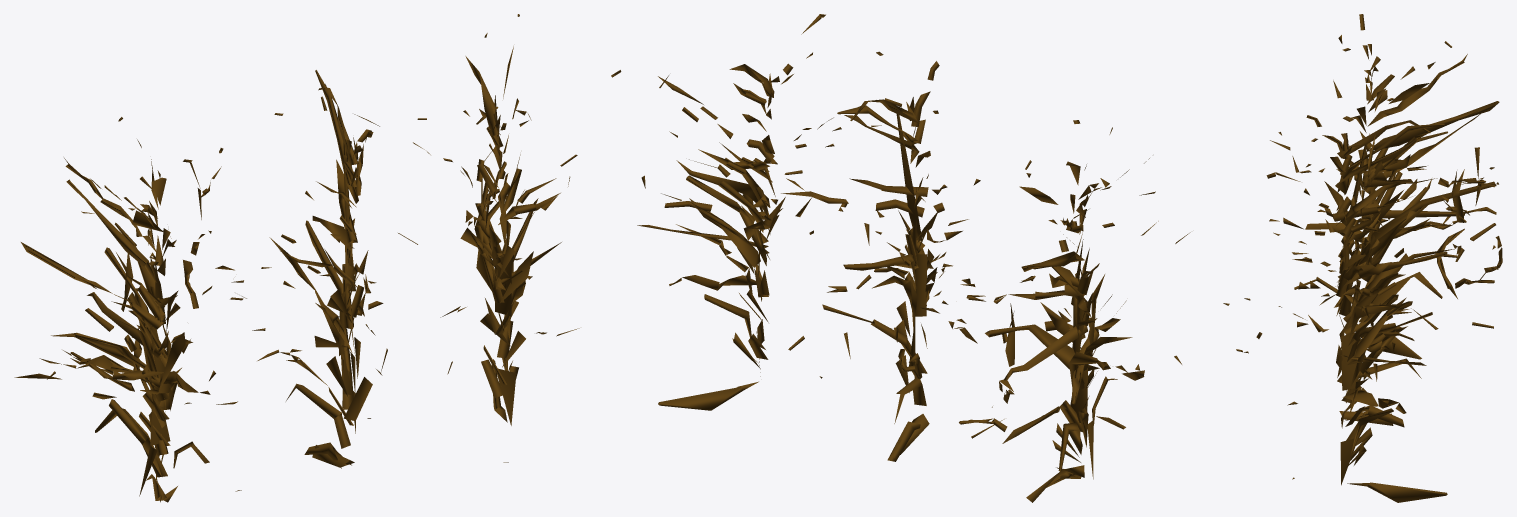
File: hedgeCore.glb
3 renders of one model, left to right at view 1: azimuth 30°, elevation 25°; view 2: azimuth 150°, elevation 25°; view 3: azimuth 270°, elevation 25°, orthographic. The views are drawn at different scales.
Visible parts, largest first — view 1: BarkPoplar.001; view 2: BarkPoplar.001; view 3: BarkPoplar.001.
Part boxes in pixels (left/top/right/bottom): BarkPoplar.001: left=14, top=14, right=579, bottom=502; BarkPoplar.001: left=611, top=14, right=1190, bottom=502; BarkPoplar.001: left=1223, top=14, right=1502, bottom=502.
Bounding box in the file's own units: 3.87 × 2.5 × 2.01.
